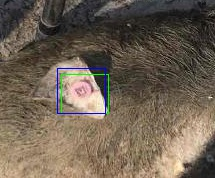text: (61, 74, 108, 113)
